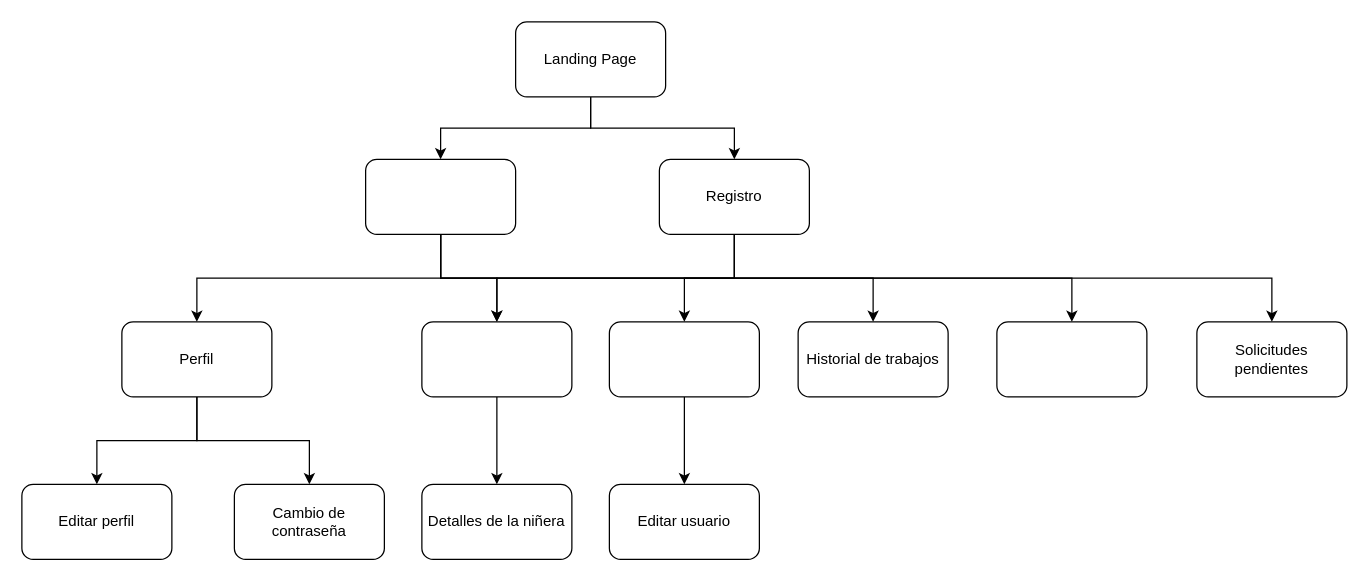
Some shapes in this 1369 by 581 pixel diagram are drawn without their labels. Each missing label, with the box of its shape:
Historial de pagos: (996, 321, 1147, 397)
Lista de niñeras: (421, 321, 572, 397)
Lista de usuarios: (608, 321, 759, 397)
Login: (364, 158, 516, 234)
